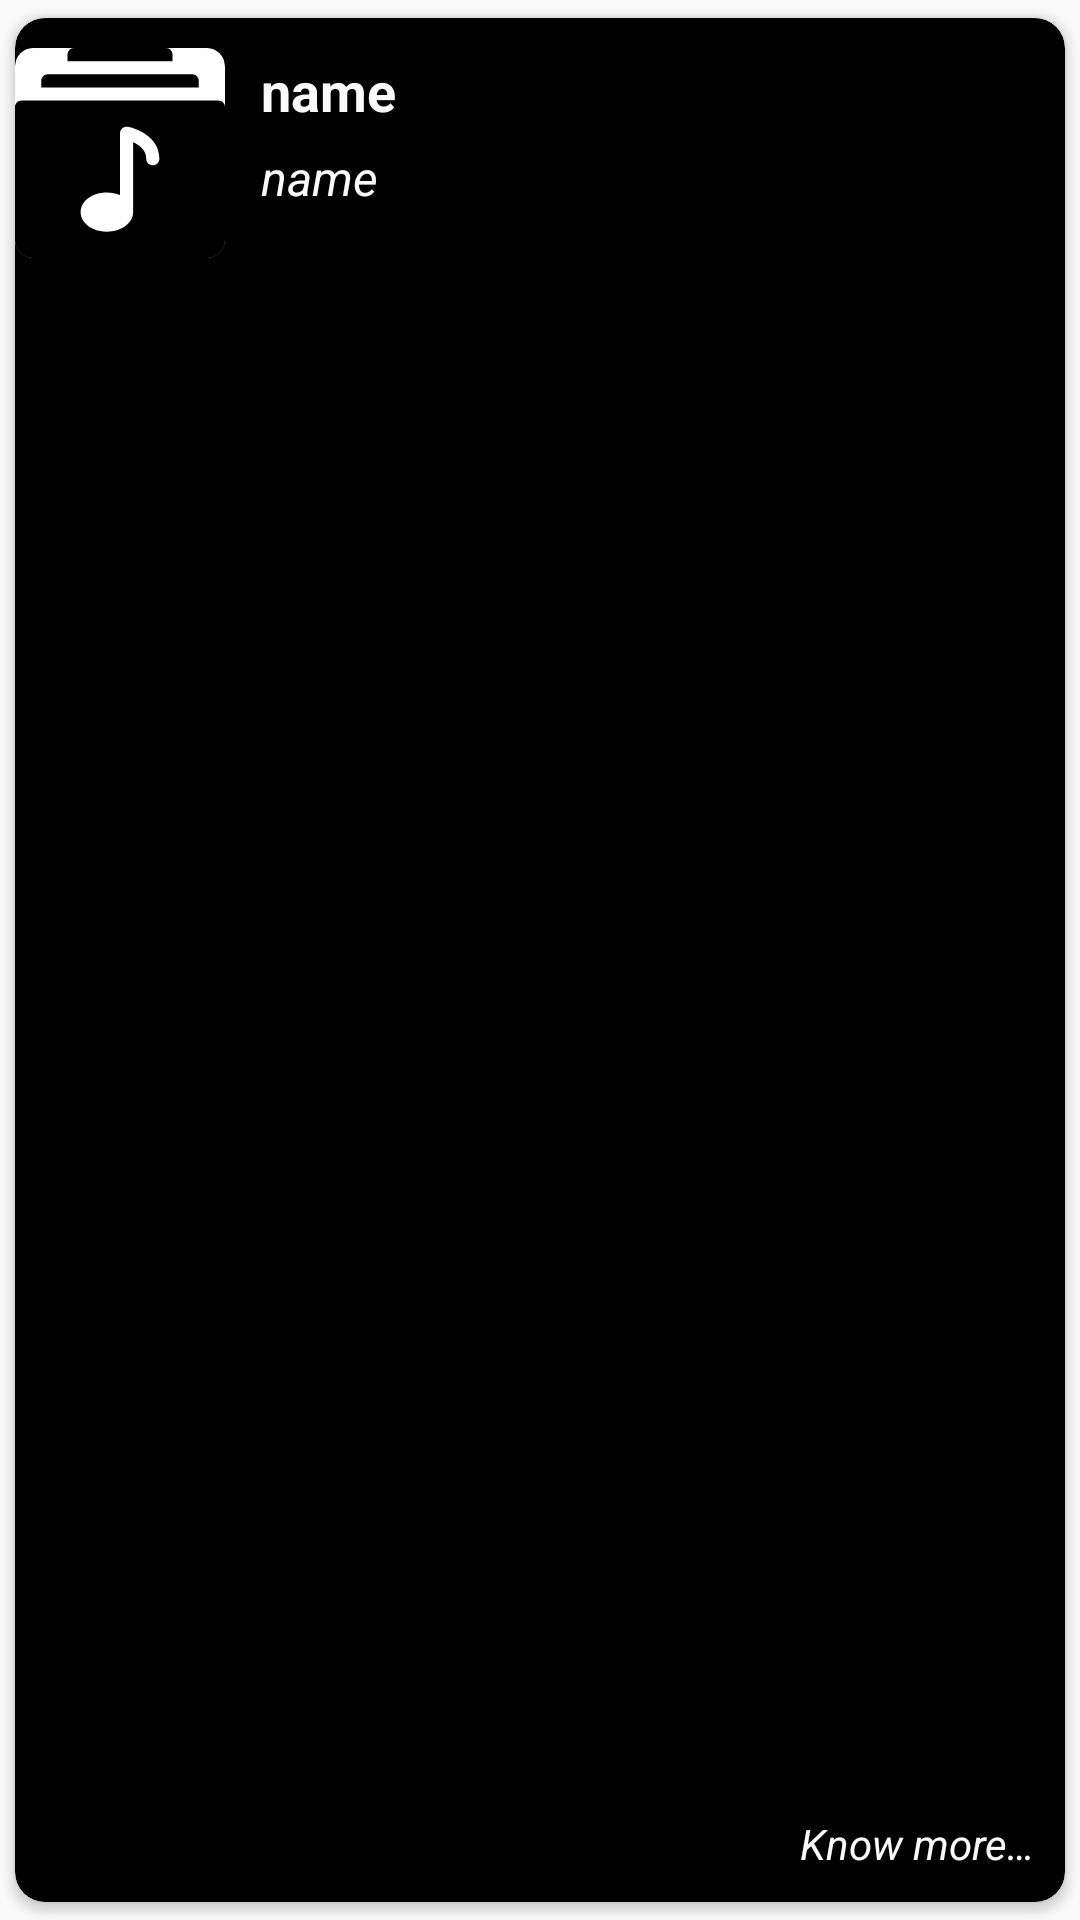

Where to tap for icons on this 1080 × 1920 app screen, as [x,y]:
album: [120,153]
